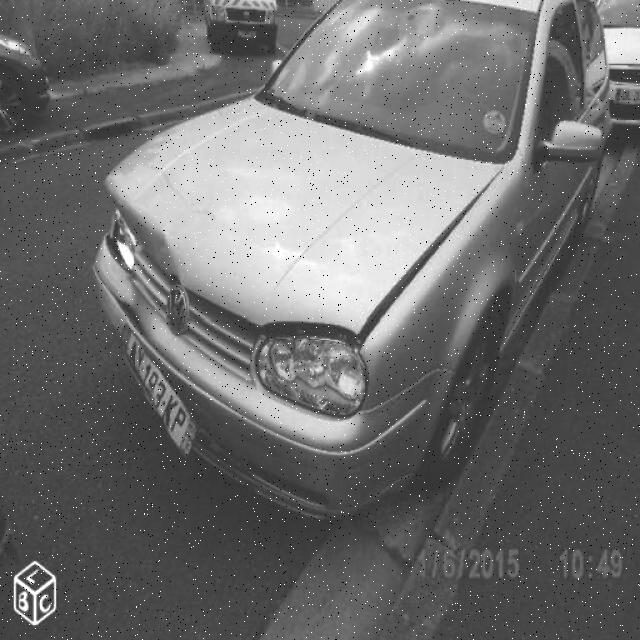car damage: (96, 182, 176, 328)
